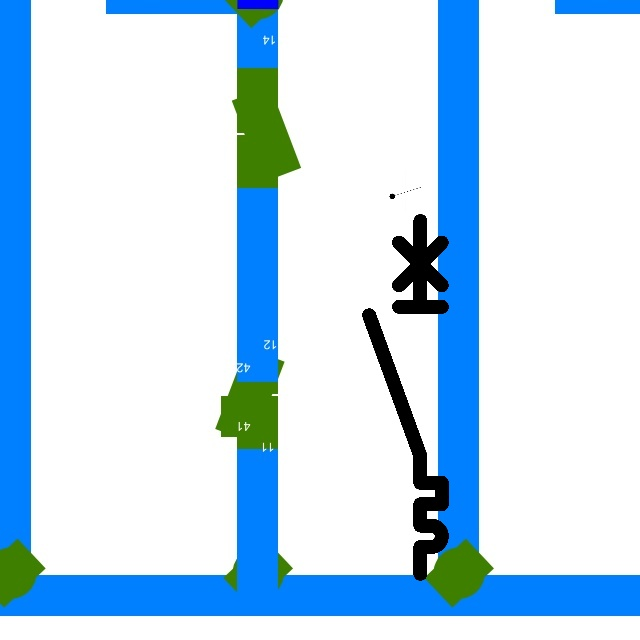interruptor_termomagnetico: (360, 212, 451, 583)
